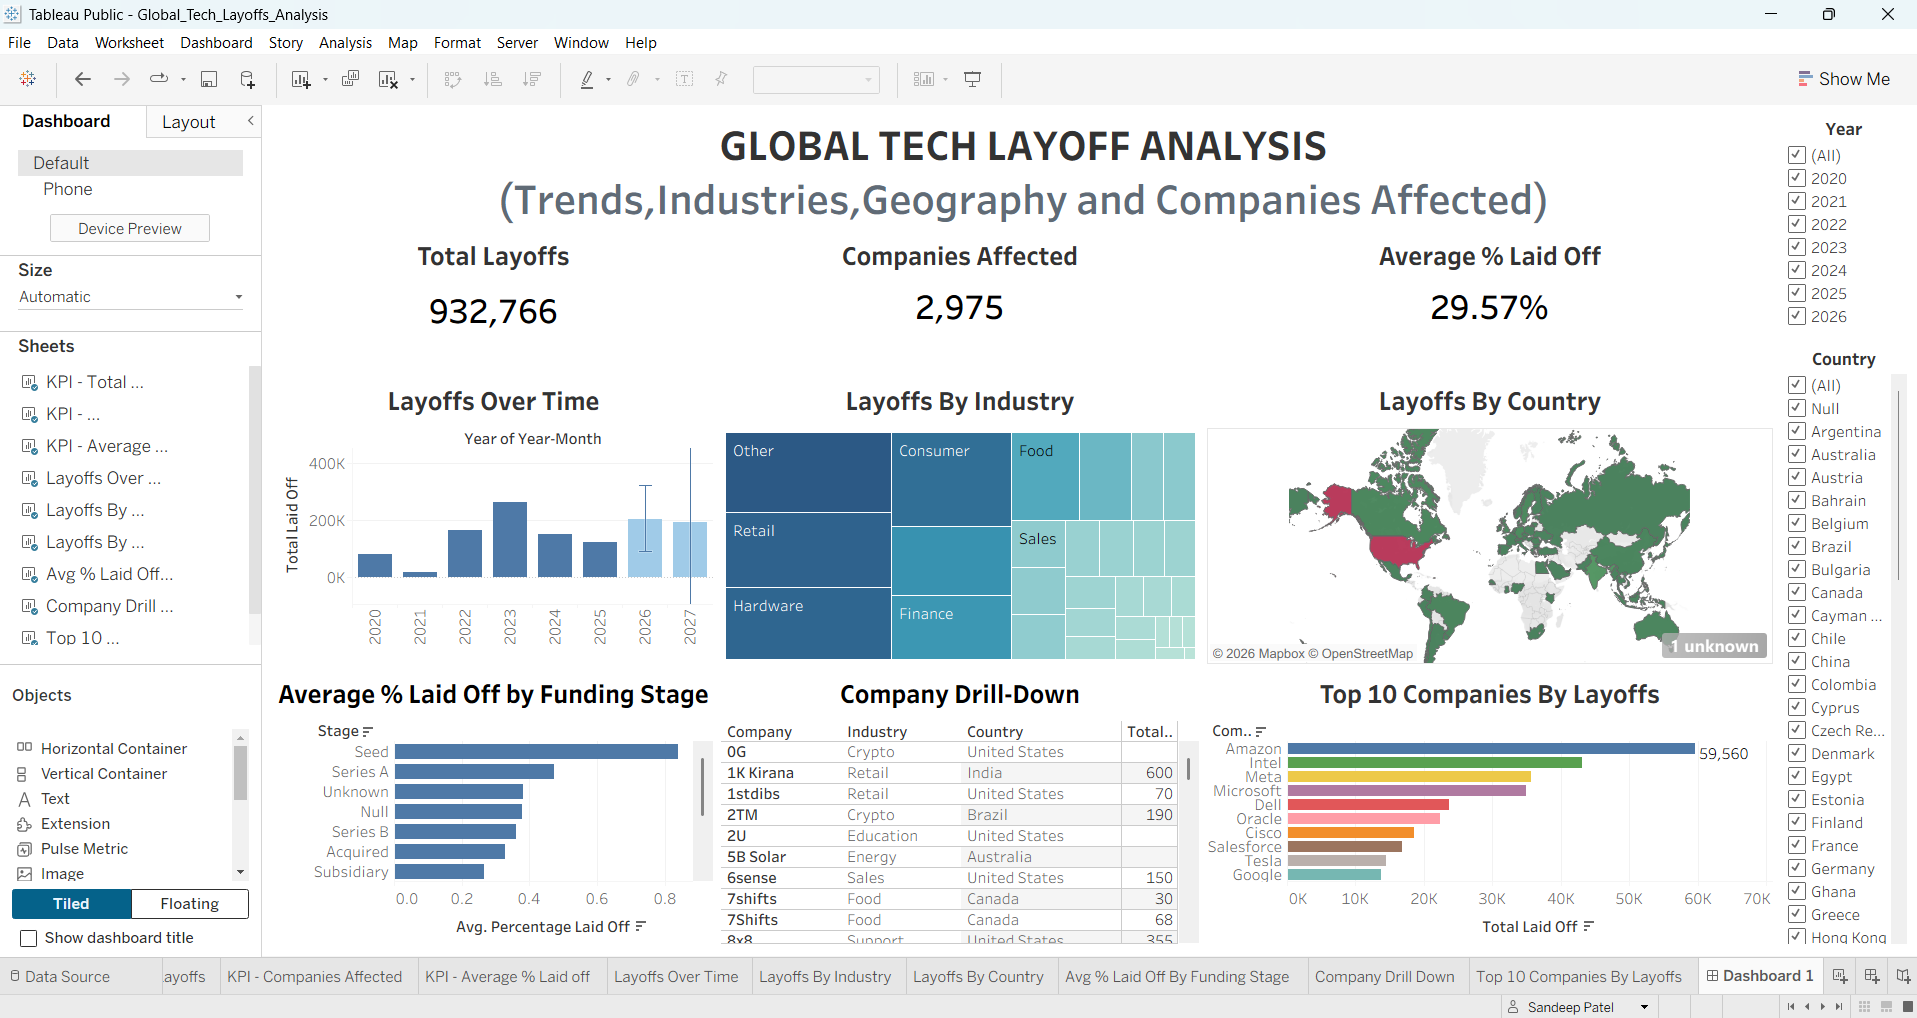

What the dashboard file says about the page in this screenshot:
{"tool":"tableau","page":{"name":"Dashboard 1","canvas":[1000,1000],"units":"permille","ordinal":0},"visuals":[{"type":"title","box":[4.8,9.4,909.5,137.5]},{"type":"filter","title":"Layoffs Over Time","param":"[federated.06hxbo812fq0j71d89mrd0qy6na5].[tyr:Calculation_1041284017823744:ok]","box":[914.3,9.4,80.9,270.3]},{"type":"worksheet","title":"KPI - Total Layoffs","mark":"Automatic","box":[4.8,146.9,269.6,170.4]},{"type":"worksheet","title":"KPI - Companies Affected","mark":"Automatic","box":[274.4,146.9,293.5,170.4]},{"type":"worksheet","title":"KPI - Average % Laid off","mark":"Automatic","box":[567.9,146.9,346.4,170.4]},{"type":"filter","title":"Layoffs By Country","param":"[federated.06hxbo812fq0j71d89mrd0qy6na5].[none:country:nk]","box":[914.3,279.7,80.9,710.9]},{"type":"worksheet","title":"Layoffs Over Time","mark":"Bar","rows":["total_laid_off"],"cols":["Calculation_1041284017823744"],"box":[4.8,317.3,269.6,344.3]},{"type":"worksheet","title":"Layoffs By Industry","mark":"Automatic","box":[274.4,317.3,293.5,344.3]},{"type":"worksheet","title":"Layoffs By Country","mark":"Automatic","box":[567.9,317.3,346.4,344.3]},{"type":"worksheet","title":"Avg % Laid Off By Funding Stage","mark":"Automatic","rows":["stage"],"cols":["percentage_laid_off"],"box":[4.8,661.6,269.6,329]},{"type":"worksheet","title":"Company Drill Down","mark":"Automatic","rows":["company","industry","country"],"box":[274.4,661.6,293.5,329]},{"type":"worksheet","title":"Top 10 Companies By Layoffs","mark":"Automatic","rows":["company"],"cols":["total_laid_off"],"box":[567.9,661.6,346.4,329]}]}

Visuals, with their boxes on the dashboard's canvas, which has no fixed pixel size, in thousandths of its width and height (x1, y1, x2, y2). These are canvas units, not pixel positions in the 1917x1018 screenshot, which may show the page scaled, cropped or inside an application window:
title: x1=5 y1=9 x2=914 y2=147
"Layoffs Over Time" filter: x1=914 y1=9 x2=995 y2=280
"KPI - Total Layoffs" worksheet: x1=5 y1=147 x2=274 y2=317
"KPI - Companies Affected" worksheet: x1=274 y1=147 x2=568 y2=317
"KPI - Average % Laid off" worksheet: x1=568 y1=147 x2=914 y2=317
"Layoffs By Country" filter: x1=914 y1=280 x2=995 y2=991
"Layoffs Over Time" worksheet (Bar marks): x1=5 y1=317 x2=274 y2=662
"Layoffs By Industry" worksheet: x1=274 y1=317 x2=568 y2=662
"Layoffs By Country" worksheet: x1=568 y1=317 x2=914 y2=662
"Avg % Laid Off By Funding Stage" worksheet: x1=5 y1=662 x2=274 y2=991
"Company Drill Down" worksheet: x1=274 y1=662 x2=568 y2=991
"Top 10 Companies By Layoffs" worksheet: x1=568 y1=662 x2=914 y2=991
